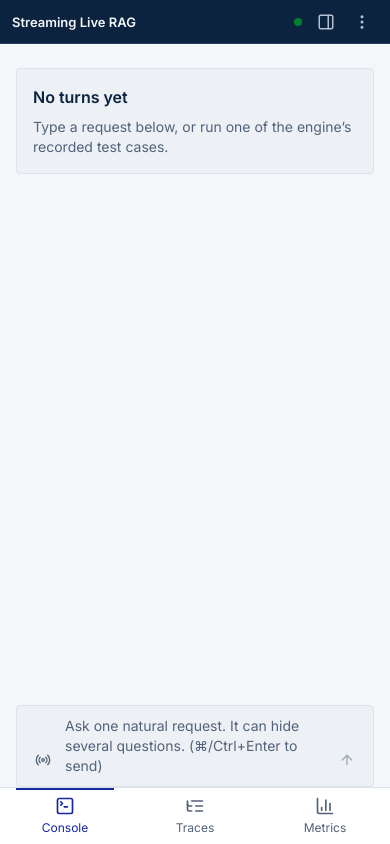
Test case: AppFrame: views › follows a link in the tab bar
This screenshot has width=390, height=844.
Click the link "Traces".
click(195, 816)  # box [176, 796, 214, 835]
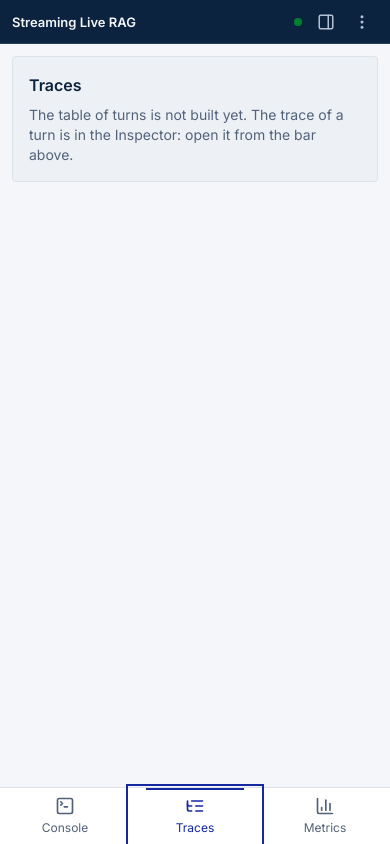
Now the heading "Traces" is shown, box [29, 73, 82, 97]
